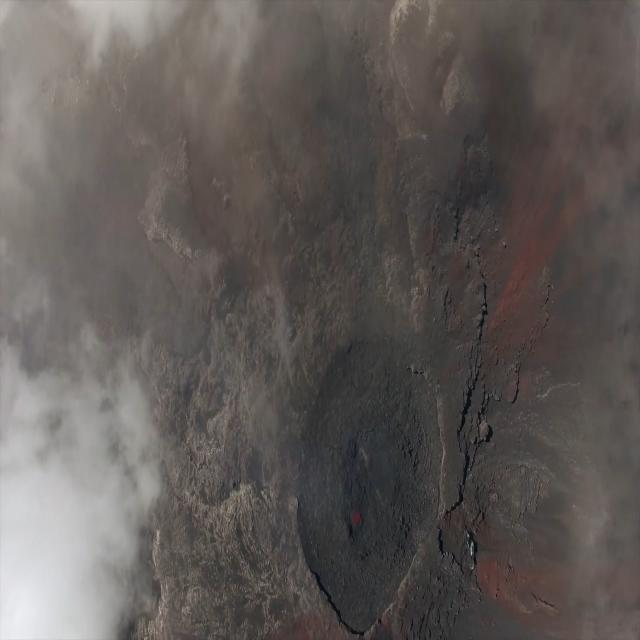Summit: (282, 307, 470, 640)
